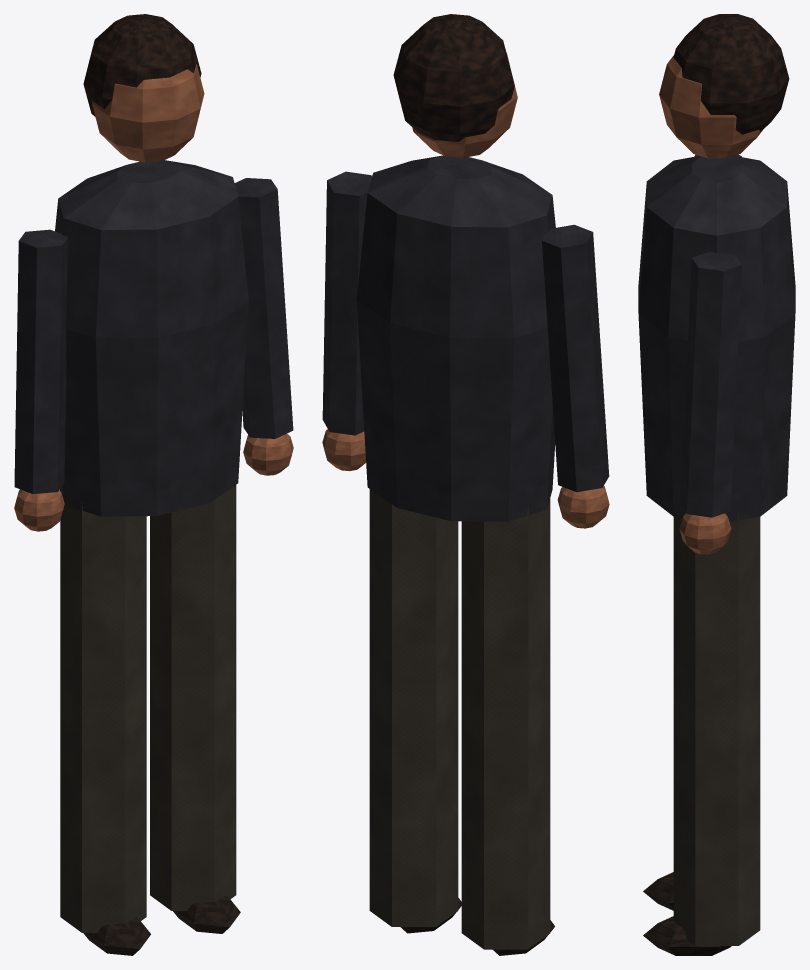
The model's file is persona_hombre2.obj.
3 views of the same model, side by side, from view 1: azimuth 30°, elevation 25°; view 2: azimuth 150°, elevation 25°; view 3: azimuth 270°, elevation 25° (orthographic). The views are drawn at different scales.
Visible parts, largest first — view 1: Pieza, Cylinder, Cylinder.001, Cylinder.002, Cylinder.003, Sphere.004, Sphere.005, Sphere.002, Sphere.003, Sphere.001, Sphere; view 2: Pieza, Cylinder, Cylinder.001, Cylinder.002, Sphere.005, Cylinder.003, Sphere.004, Sphere.002, Sphere.003; view 3: Pieza, Cylinder.001, Cylinder.003, Sphere.005, Sphere.004, Sphere.003, Sphere.001, Sphere.
Boxes of the visible parts, x1,y1,x2,y2 form: Pieza: (55, 160, 248, 516); Cylinder: (60, 488, 146, 932); Cylinder.001: (150, 485, 236, 910); Cylinder.002: (14, 229, 68, 493); Cylinder.003: (234, 178, 293, 438); Sphere.004: (92, 64, 204, 162); Sphere.005: (83, 14, 201, 116); Sphere.002: (14, 489, 64, 531); Sphere.003: (243, 433, 293, 475); Sphere.001: (173, 896, 240, 933); Sphere: (83, 918, 150, 955); Pieza: (356, 155, 555, 521); Cylinder: (461, 492, 550, 949); Cylinder.001: (369, 489, 458, 926); Cylinder.002: (542, 224, 609, 492); Sphere.005: (393, 14, 514, 141); Cylinder.003: (322, 171, 371, 435); Sphere.004: (412, 52, 517, 157); Sphere.002: (557, 486, 609, 528); Sphere.003: (322, 429, 365, 471); Pieza: (638, 156, 795, 521); Cylinder.001: (673, 511, 760, 945); Cylinder.003: (680, 251, 741, 517); Sphere.005: (673, 14, 789, 134); Sphere.004: (659, 55, 762, 158); Sphere.003: (679, 513, 731, 554); Sphere.001: (643, 916, 731, 955); Sphere: (643, 872, 673, 910).
Bounding box in the file's own units: 0.5469 × 1.74 × 0.2711.
5 materials, 5 textured.
